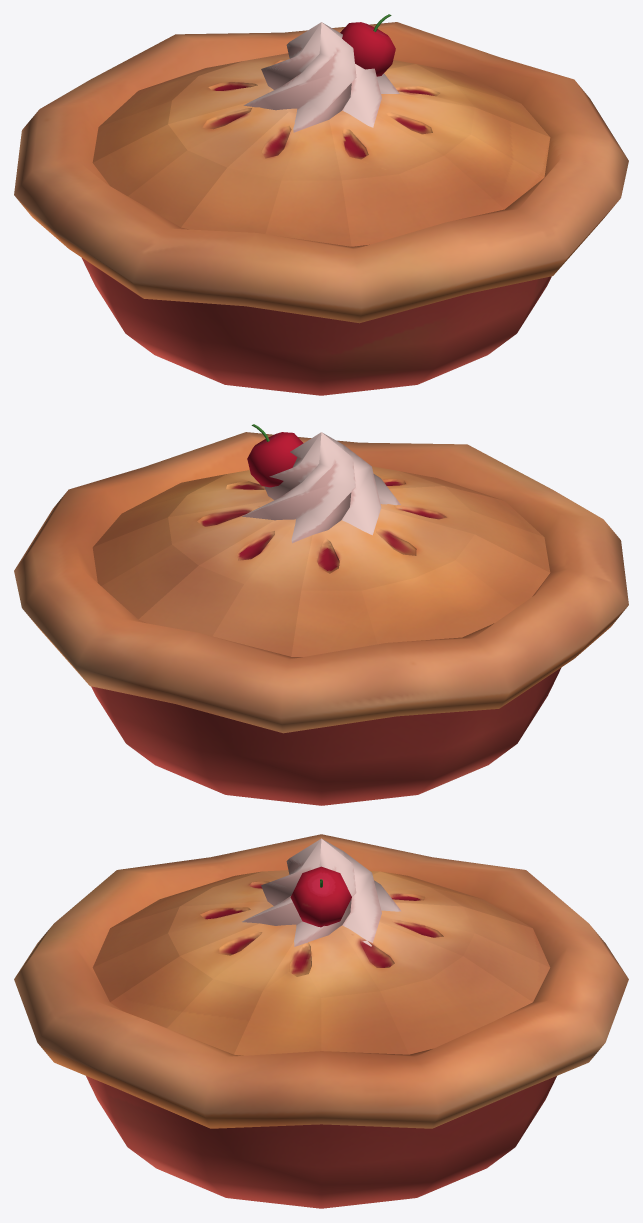
File: CherryPie 1.fbx
3 views of the same model, one above another, from view 1: azimuth 30°, elevation 25°; view 2: azimuth 150°, elevation 25°; view 3: azimuth 270°, elevation 25° (orthographic).
Parts seen in each view (by area): view 1: CherryPie; view 2: CherryPie; view 3: CherryPie.
Part boxes in pixels (left/top/right/bottom): CherryPie: left=14, top=14, right=628, bottom=395; CherryPie: left=14, top=424, right=628, bottom=805; CherryPie: left=14, top=834, right=628, bottom=1208.
Size of the model in its own units: 50 by 26 by 50.
